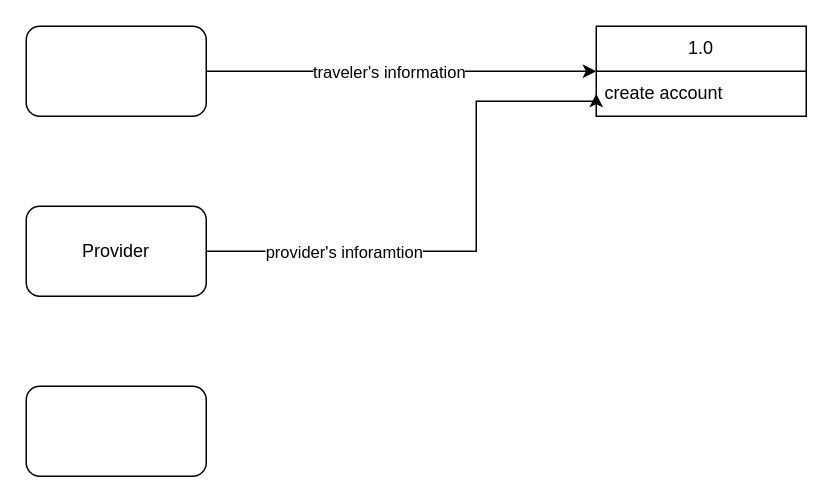
Image size: 833x503. Some labels were removed from this diagram. Each missing label, with the centre of its shape:
"Admin" goes at (115,430).
"Traveler" goes at (115,70).
